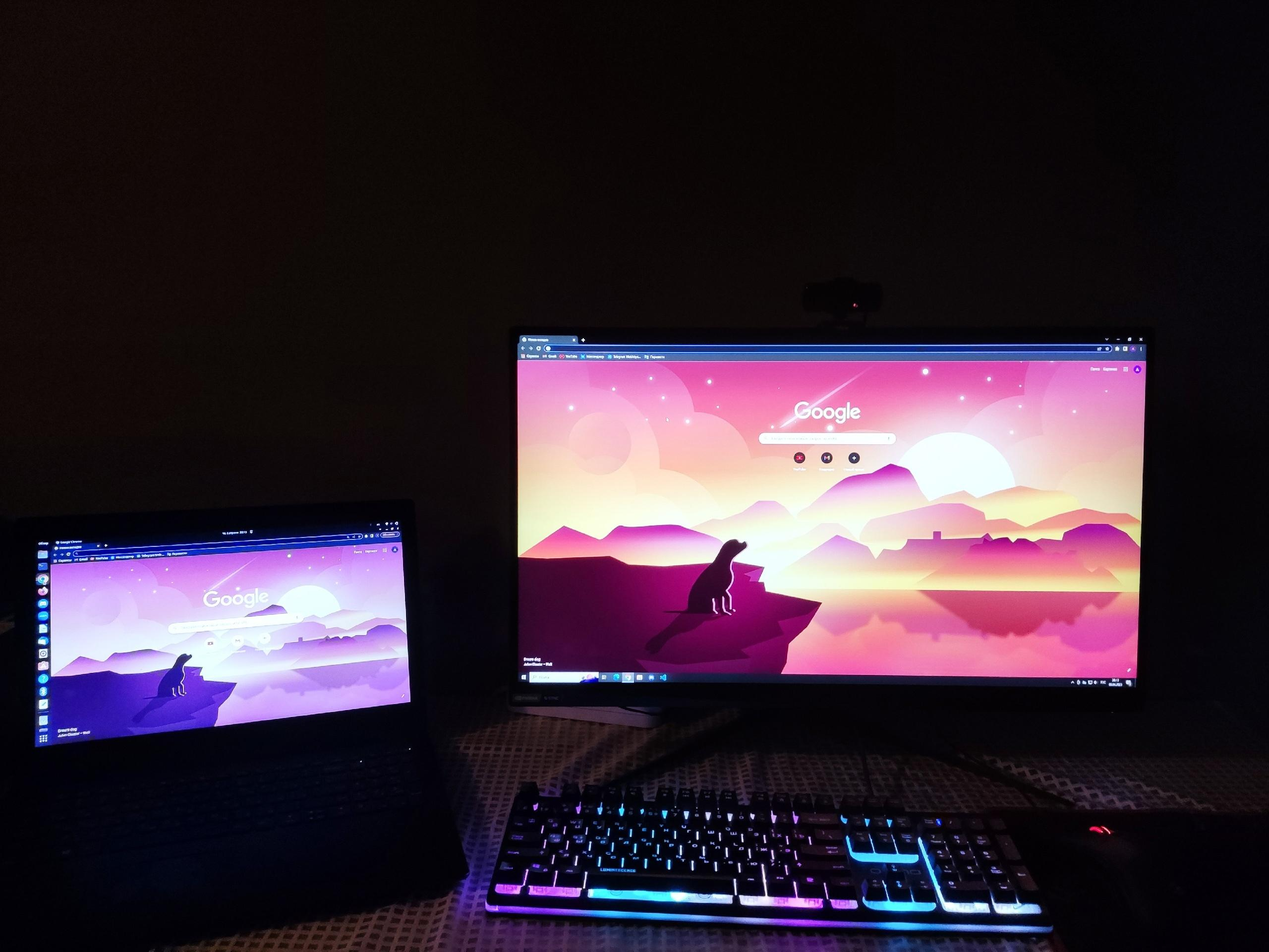monitor: (484, 304, 1168, 729), (7, 496, 426, 775)
